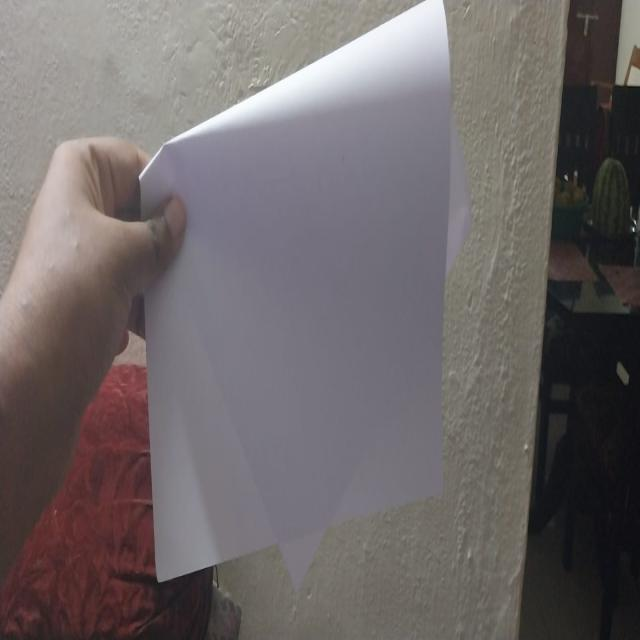Paper - Recyclable: (136, 1, 464, 591)
